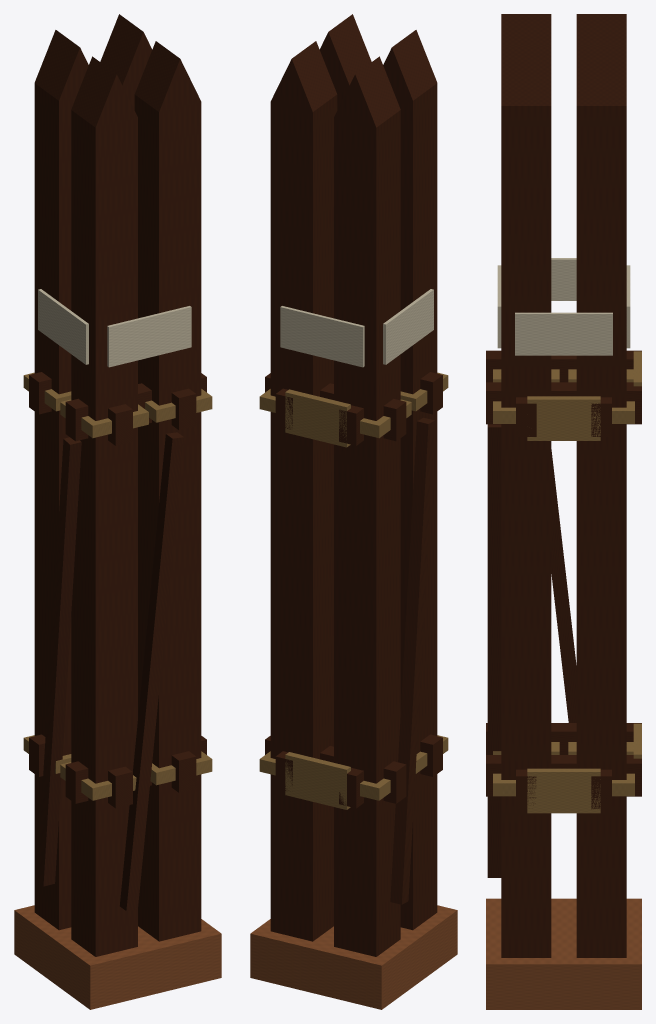
The model's file is Berber_PalisadeBastion_Age1_corner_90.fbx.
3 renders of one model, left to right at view 1: azimuth 30°, elevation 25°; view 2: azimuth 150°, elevation 25°; view 3: azimuth 270°, elevation 25°, orthographic. The views are drawn at different scales.
Parts seen in each view (by area): view 1: split_timber_upright.008, split_timber_upright.010, split_timber_upright.009, compacted_earth_footing.002, terminal_diagonal_stay.012, terminal_diagonal_stay.010, native_owner_stripe_source.010, split_timber_upright.011, native_owner_stripe_source.008, bundle_cross_tie_x.010, bundle_cross_tie_y.009, bundle_cross_tie_y.011 (+8 smaller); view 2: split_timber_upright.009, split_timber_upright.011, split_timber_upright.008, compacted_earth_footing.002, terminal_diagonal_stay.010, native_owner_stripe_source.011, exposed_wall_socket_collar.008, exposed_wall_socket_collar.009, split_timber_upright.010, native_owner_stripe_source.008, bundle_cross_tie_x.011, bundle_cross_tie_x.009 (+6 smaller); view 3: split_timber_upright.010, split_timber_upright.011, compacted_earth_footing.002, terminal_diagonal_stay.012, native_owner_stripe_source.009, exposed_wall_socket_collar.006, terminal_diagonal_stay.010, exposed_wall_socket_collar.007, split_timber_upright.008, split_timber_upright.009, bundle_cross_tie_y.011, bundle_cross_tie_y.009 (+9 smaller).
Part boxes in pixels (x1=…): split_timber_upright.008: x1=71, y1=56, x2=137, y2=956; split_timber_upright.010: x1=134, y1=41, x2=201, y2=941; split_timber_upright.009: x1=34, y1=30, x2=88, y2=930; compacted_earth_footing.002: x1=14, y1=905, x2=221, y2=1009; terminal_diagonal_stay.012: x1=119, y1=432, x2=183, y2=911; terminal_diagonal_stay.010: x1=37, y1=437, x2=81, y2=886; native_owner_stripe_source.010: x1=107, y1=306, x2=191, y2=367; split_timber_upright.011: x1=100, y1=14, x2=152, y2=109; native_owner_stripe_source.008: x1=38, y1=289, x2=88, y2=364; bundle_cross_tie_x.010: x1=65, y1=373, x2=206, y2=441; bundle_cross_tie_y.009: x1=171, y1=751, x2=196, y2=792; bundle_cross_tie_y.011: x1=171, y1=388, x2=196, y2=430; split_timber_upright.009: x1=334, y1=56, x2=400, y2=956; split_timber_upright.011: x1=270, y1=41, x2=337, y2=941; split_timber_upright.008: x1=383, y1=30, x2=437, y2=930; compacted_earth_footing.002: x1=250, y1=905, x2=457, y2=1009; terminal_diagonal_stay.010: x1=390, y1=417, x2=434, y2=904; native_owner_stripe_source.011: x1=280, y1=306, x2=364, y2=367; exposed_wall_socket_collar.008: x1=285, y1=752, x2=350, y2=809; exposed_wall_socket_collar.009: x1=285, y1=389, x2=350, y2=447; split_timber_upright.010: x1=319, y1=14, x2=371, y2=109; native_owner_stripe_source.008: x1=383, y1=289, x2=433, y2=364; bundle_cross_tie_x.011: x1=265, y1=373, x2=406, y2=441; bundle_cross_tie_x.009: x1=265, y1=736, x2=406, y2=803; split_timber_upright.010: x1=501, y1=46, x2=551, y2=957; split_timber_upright.011: x1=576, y1=46, x2=626, y2=957; compacted_earth_footing.002: x1=486, y1=898, x2=641, y2=1009; terminal_diagonal_stay.012: x1=487, y1=424, x2=501, y2=877; native_owner_stripe_source.009: x1=515, y1=312, x2=612, y2=355; exposed_wall_socket_collar.006: x1=527, y1=768, x2=600, y2=813; terminal_diagonal_stay.010: x1=551, y1=449, x2=576, y2=722; exposed_wall_socket_collar.007: x1=527, y1=396, x2=600, y2=440; split_timber_upright.008: x1=501, y1=14, x2=551, y2=45; split_timber_upright.009: x1=576, y1=14, x2=626, y2=45; bundle_cross_tie_y.011: x1=486, y1=382, x2=641, y2=424; bundle_cross_tie_y.009: x1=486, y1=755, x2=641, y2=796.
Size of the model in its own units: 68.29 by 458 by 68.29.
4 materials, 4 textured.
